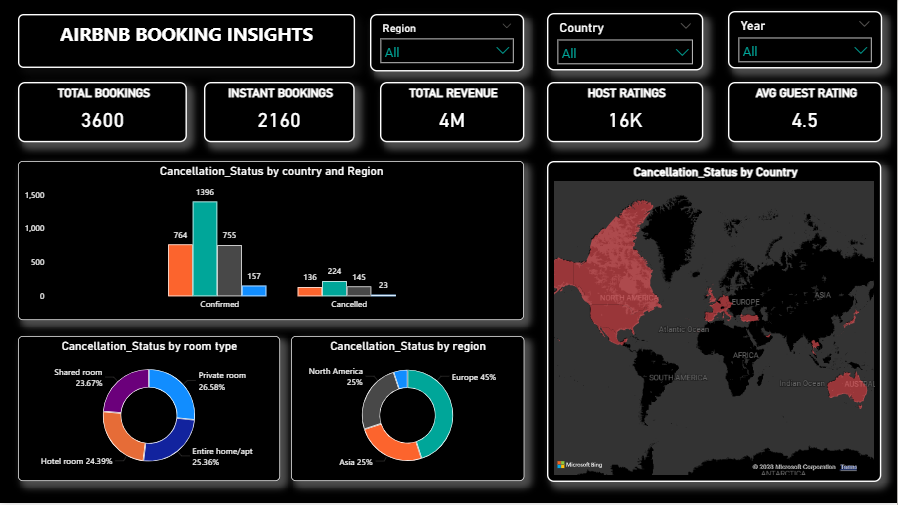

The dashboard page shown, as its layout file describes it:
{"tool":"powerbi","page":{"name":"AIRBNB BOOKING INSIGHTS","canvas":[1280,720],"ordinal":2},"visuals":[{"type":"card","title":"TOTAL BOOKINGS","fields":{"Values":["AIR_BNB.Total Bookings"]},"box":[25,119.8,241.3,85.8],"z":0},{"type":"card","title":"INSTANT BOOKINGS","fields":{"Values":["AIR_BNB.Instant Booking"]},"box":[291.4,119.8,214.5,85.8],"z":1000},{"type":"card","title":"TOTAL REVENUE","fields":{"Values":["AIR_BNB.Total Revenue"]},"box":[541.7,119.8,205.6,85.8],"z":2000},{"type":"card","title":"HOST RATINGS","fields":{"Values":["Sum(AIR_BNB.Guest_Rating)"]},"box":[781.2,119.8,223.5,85.8],"z":3000},{"type":"card","title":"AVG GUEST RATING","fields":{"Values":["AIR_BNB.Avg Guest Rating"]},"box":[1038.7,119.8,219.9,85.8],"z":4000},{"type":"slicer","fields":{"Values":["AIR_BNB.Region"]},"box":[527.4,23.2,219.9,82.2],"z":5000},{"type":"slicer","fields":{"Values":["AIR_BNB.Country"]},"box":[781.2,21.5,223.5,82.2],"z":6000},{"type":"slicer","fields":{"Values":["AIR_BNB.Booking_Date.Variation.Date Hierarchy.Year"]},"box":[1038.7,17.9,219.9,82.2],"z":7000},{"type":"clusteredColumnChart","title":" Cancellation_Status by country and Region","fields":{"Category":["AIR_BNB.Cancellation_Status"],"Series":["AIR_BNB.Region"],"Y":["CountNonNull(AIR_BNB.Country)"]},"box":[25,232.4,722.2,227],"z":8000},{"type":"filledMap","title":" Cancellation_Status by Country","fields":{"Category":["AIR_BNB.Country"]},"box":[781.2,232.4,477.3,457.7],"z":10000},{"type":"textbox","box":[25,23.2,480.9,76.9],"z":11000},{"type":"donutChart","title":"Cancellation_Status by room type","fields":{"Category":["AIR_BNB.Room_Type"],"Y":["CountNonNull(AIR_BNB.Cancellation_Status)"]},"box":[25,482.7,373.6,207.4],"z":12000},{"type":"donutChart","title":"Cancellation_Status by region","fields":{"Category":["AIR_BNB.Region"],"Y":["CountNonNull(AIR_BNB.Cancellation_Status)"]},"box":[414.7,482.7,332.5,207.4],"z":12001}]}

Visuals, with their boxes in screenshot pixels (x1, y1, x2, y2), scaled from the page's 1280x720 canvas onto the 899x505 screenshot:
"TOTAL BOOKINGS" card: 18/84/187/144
"INSTANT BOOKINGS" card: 205/84/355/144
"TOTAL REVENUE" card: 380/84/525/144
"HOST RATINGS" card: 549/84/706/144
"AVG GUEST RATING" card: 730/84/884/144
slicer - AIR_BNB.Region: 370/16/525/74
slicer - AIR_BNB.Country: 549/15/706/73
slicer - AIR_BNB.Booking_Date.Variation.Date Hierarchy.Year: 730/13/884/70
" Cancellation_Status by country and Region" clusteredColumnChart: 18/163/525/322
" Cancellation_Status by Country" filledMap: 549/163/884/484
textbox: 18/16/355/70
"Cancellation_Status by room type" donutChart: 18/339/280/484
"Cancellation_Status by region" donutChart: 291/339/525/484
